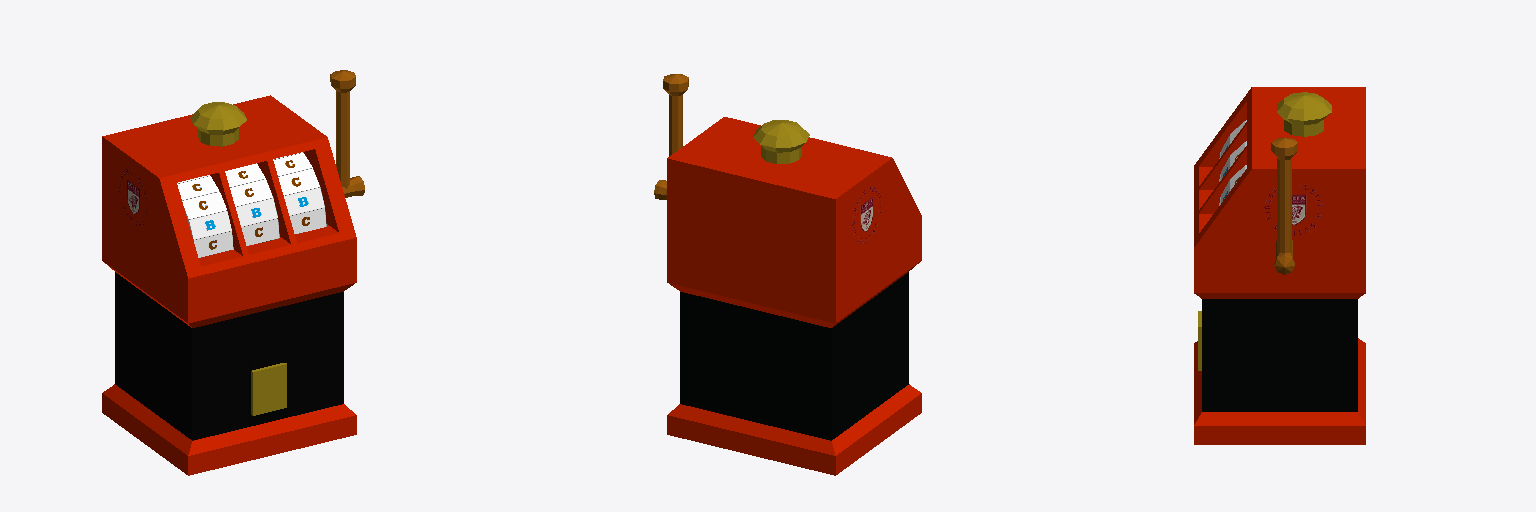
The picture shows the model from 3 angles: view 1: azimuth 30°, elevation 25°; view 2: azimuth 150°, elevation 25°; view 3: azimuth 270°, elevation 25°; orthographic projection.
Visible parts, largest first — view 1: Object__19, Object__15, Object__0.002, Object__0, Object__0.001, Object__11, Object__13, Object__9, Object__17; view 2: Object__19, Object__15, Object__11, Object__9, Object__17; view 3: Object__19, Object__15, Object__11, Object__9.
Part boxes in pixels (x1,y1,x2,y2): Object__19: (102, 95, 356, 475); Object__15: (115, 272, 343, 440); Object__0.002: (177, 175, 233, 257); Object__0: (225, 163, 279, 245); Object__0.001: (273, 152, 326, 233); Object__11: (330, 70, 364, 197); Object__13: (251, 363, 286, 415); Object__9: (190, 102, 246, 146); Object__17: (207, 112, 246, 134); Object__19: (667, 117, 921, 475); Object__15: (680, 272, 908, 440); Object__11: (654, 74, 688, 199); Object__9: (753, 120, 809, 163); Object__17: (753, 129, 805, 152); Object__19: (1194, 87, 1365, 444); Object__15: (1202, 299, 1357, 411); Object__11: (1271, 137, 1297, 274); Object__9: (1284, 92, 1323, 136).
Bounding box in the file's own units: 1.39 × 1.94 × 0.939.
Materials: 7 (2 with a texture image).